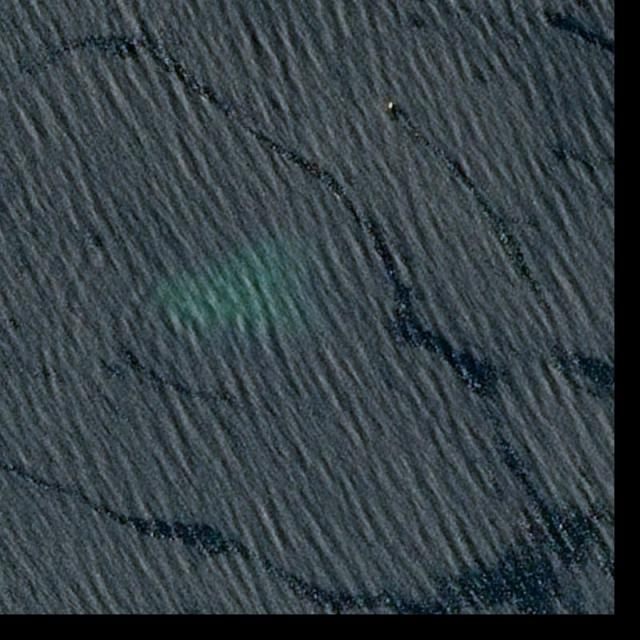ship: (384, 99, 397, 111)
